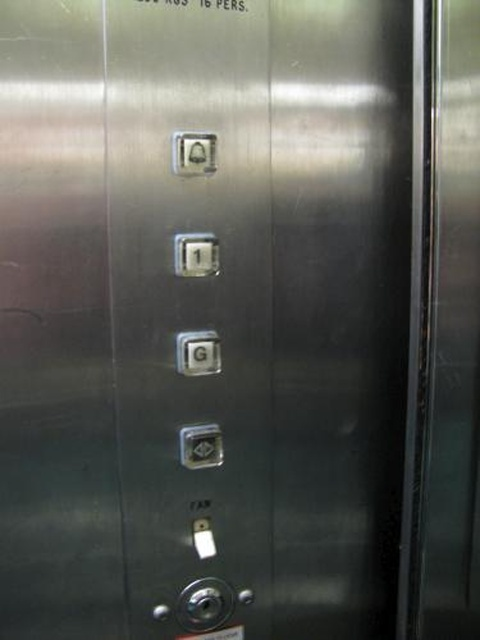1: (176, 232, 219, 277)
G: (178, 332, 222, 378)
alarm: (172, 129, 218, 177)
keyhole: (171, 575, 237, 636)
open: (180, 423, 225, 472)
switch: (186, 511, 221, 566)
